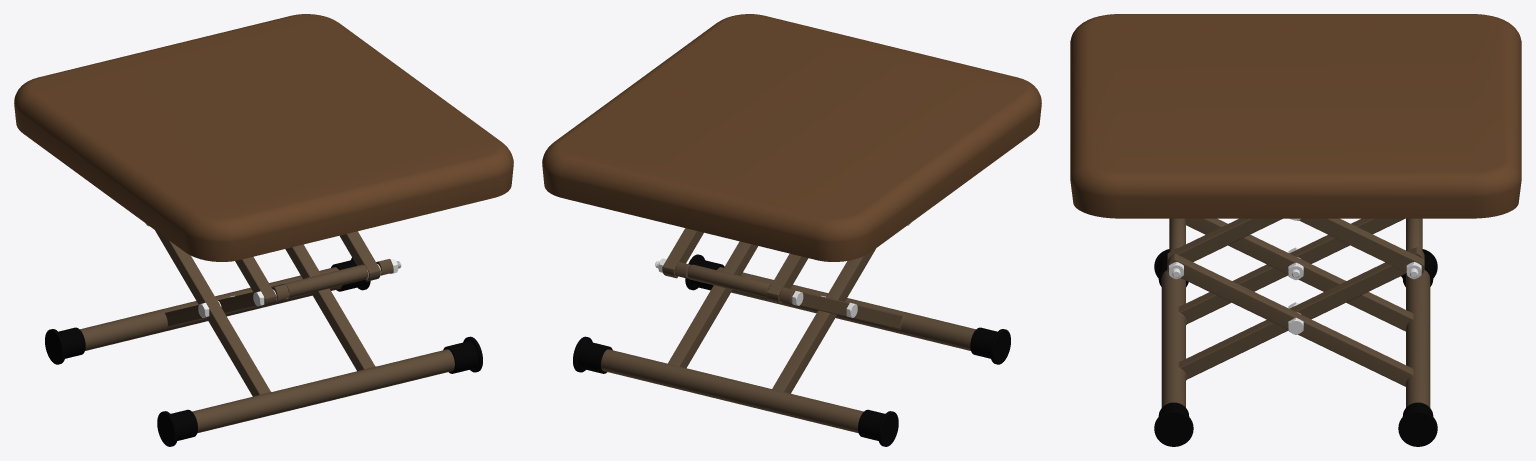
File: foldable_table.glb
3 renders of one model, left to right at view 1: azimuth 30°, elevation 25°; view 2: azimuth 150°, elevation 25°; view 3: azimuth 270°, elevation 25°, orthographic. The views are drawn at different scales.
Visible parts, largest first — view 1: Plane.001_6, Cylinder_1, Cylinder.006_3, Cylinder.021_31, Cylinder.007_4, Cylinder.002_2; view 2: Plane.001_6, Cylinder.006_3, Cylinder_1, Cylinder.021_31, Cylinder.008_5, Cylinder.002_2; view 3: Plane.001_6, Cylinder.006_3, Cylinder_1, Cylinder.021_31, Cylinder.008_5, Cylinder.007_4, Cylinder.002_2.
Part boxes in pixels (x1,y1,x2,y2): Plane.001_6: (14,14,513,261); Cylinder_1: (155,230,454,433); Cylinder.006_3: (80,259,393,350); Cylinder.021_31: (45,257,482,446); Cylinder.007_4: (235,231,380,306); Cylinder.002_2: (283,264,367,297); Plane.001_6: (542,14,1041,261); Cylinder.006_3: (601,241,875,433); Cylinder_1: (675,262,975,350); Cylinder.021_31: (573,254,1010,446); Cylinder.008_5: (662,228,808,303); Cylinder.002_2: (688,264,771,297); Plane.001_6: (1070,14,1521,218); Cylinder.006_3: (1167,218,1430,407); Cylinder_1: (1161,218,1424,407); Cylinder.021_31: (1154,249,1437,446); Cylinder.008_5: (1299,218,1424,274); Cylinder.007_4: (1167,218,1282,261); Cylinder.002_2: (1169,218,1422,252).
Bounding box in the file's own units: 7.35 × 5.42 × 8.17.
